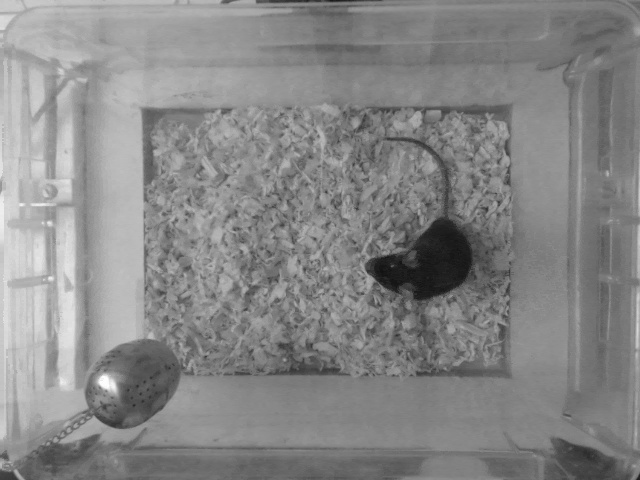mice: (363, 136, 479, 299)
